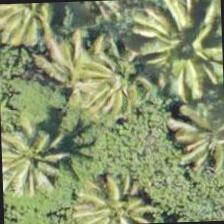Kelapa_Sawit: (68, 40, 160, 134), (138, 3, 222, 97), (149, 92, 223, 186), (0, 119, 68, 211), (67, 171, 161, 223), (0, 1, 72, 52)
